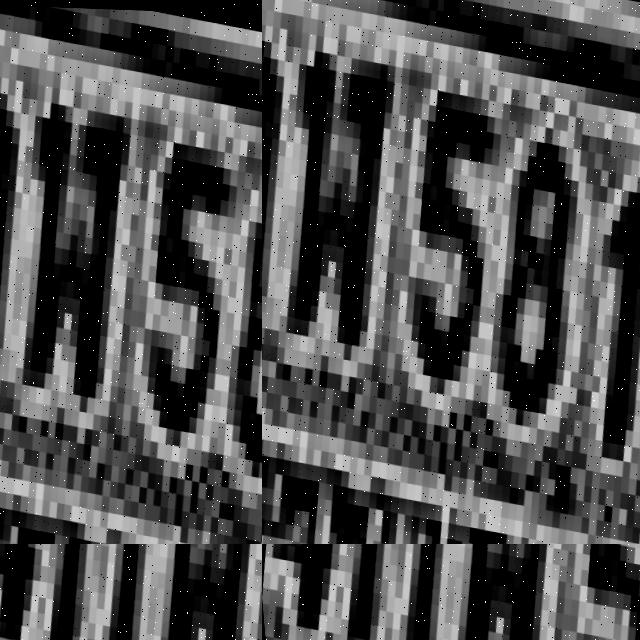license-plate: (262, 49, 640, 544), (0, 0, 262, 544), (262, 544, 640, 640), (0, 544, 262, 640)
